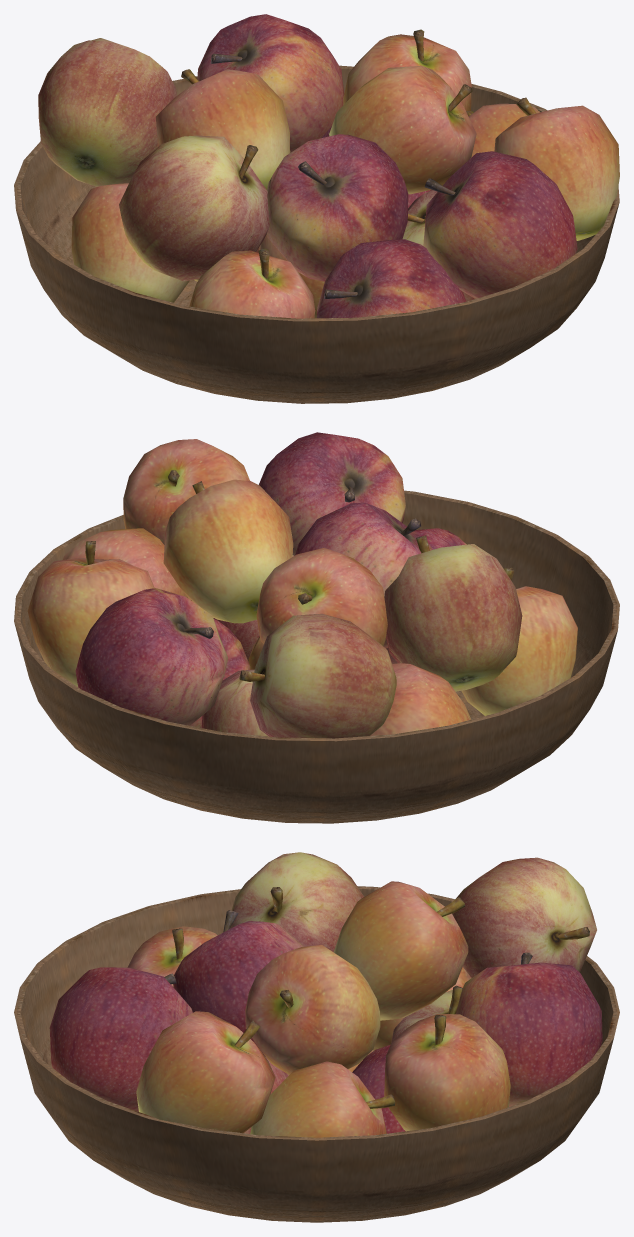
The model's file is PotApples01.FBX.
The picture shows the model from 3 angles, top to bottom: view 1: azimuth 30°, elevation 25°; view 2: azimuth 150°, elevation 25°; view 3: azimuth 270°, elevation 25°; orthographic projection.
Parts seen in each view (by area): view 1: PotApples01; view 2: PotApples01; view 3: PotApples01.
Boxes of the visible parts, x1,y1,x2,y2 form: PotApples01: (14, 14, 619, 403); PotApples01: (14, 432, 619, 823); PotApples01: (14, 852, 619, 1222).
Size of the model in its own units: 0.283 by 0.1291 by 0.283.
